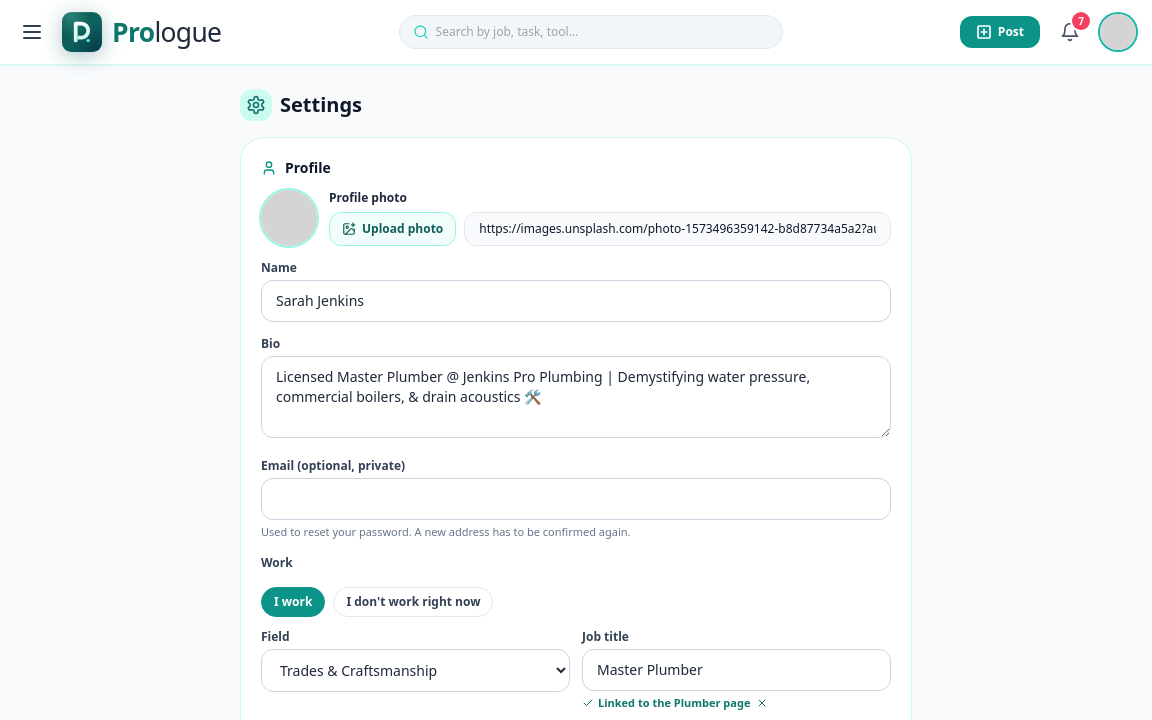
Scenario: picking your profession › links the profile to a catalog profession and sets the field
Earlier steps of the test are not shown.
Replace the text in the dropdown labelled "Job title" with "electr". click: (736, 670)
box: x1=582 y1=648 x2=891 y2=690
(page scrolled)
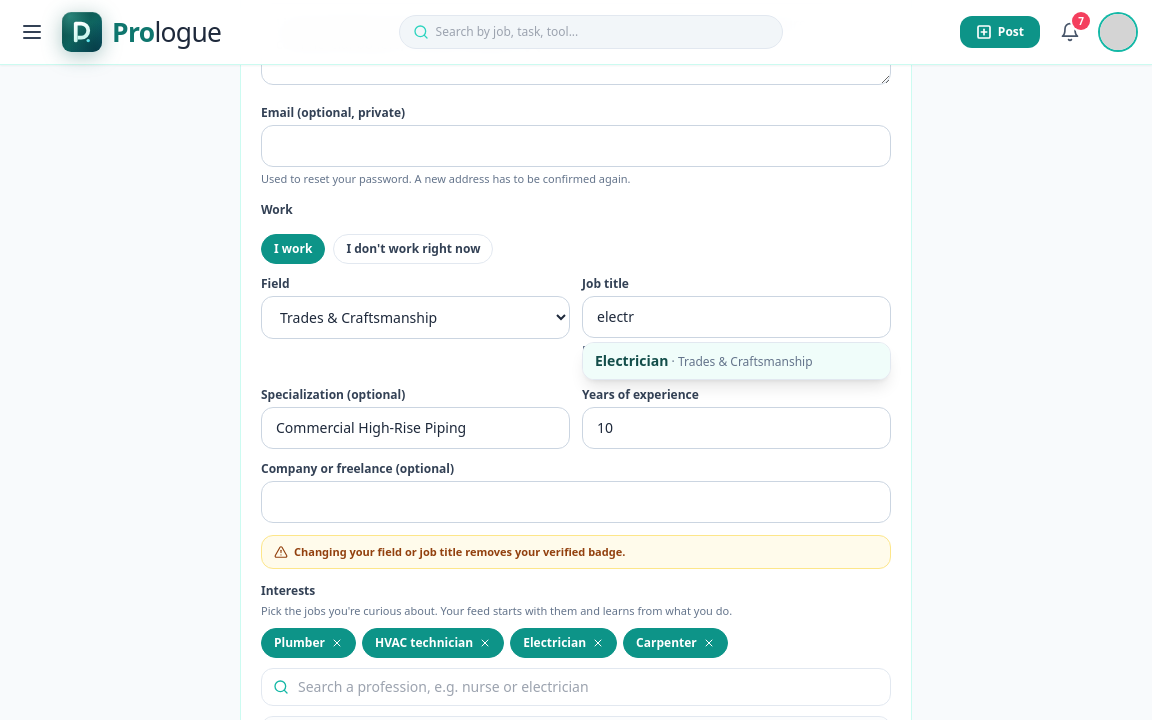
Press the mouse on the option "Electrician · Trades & Craftsmanship" at (736, 360), box x1=583 y1=342 x2=890 y2=378
(page scrolled)
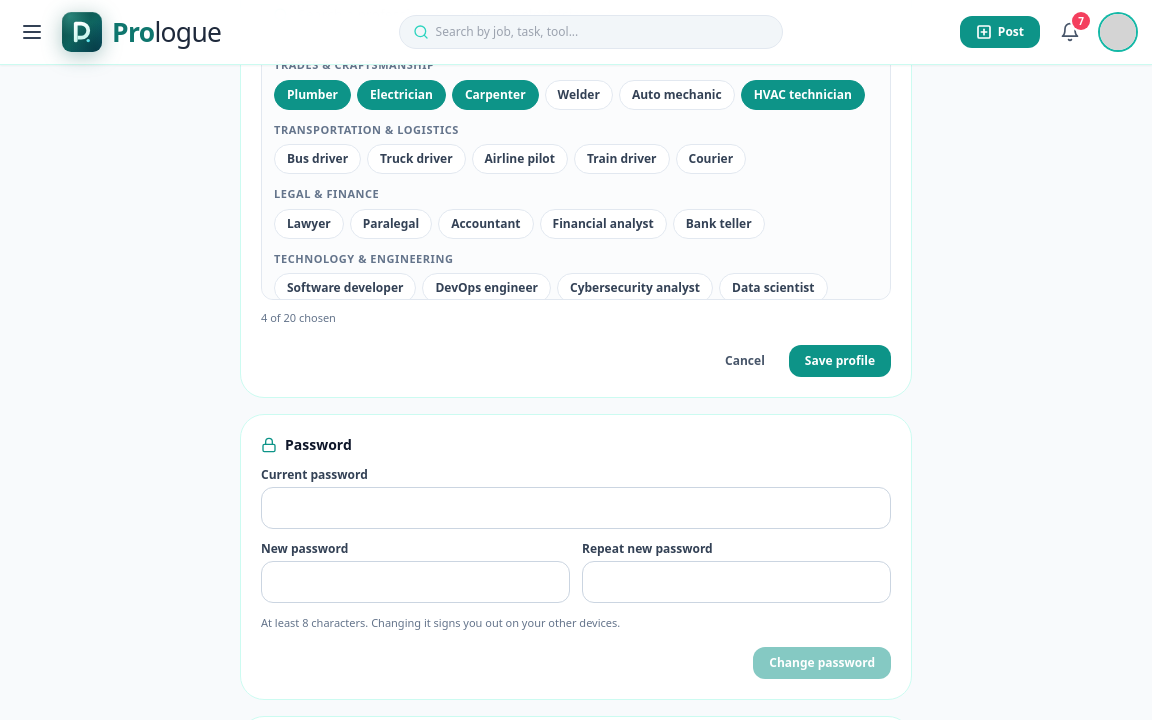
Click the button "Save profile". click: click(840, 361)
box: x1=789 y1=345 x2=891 y2=377
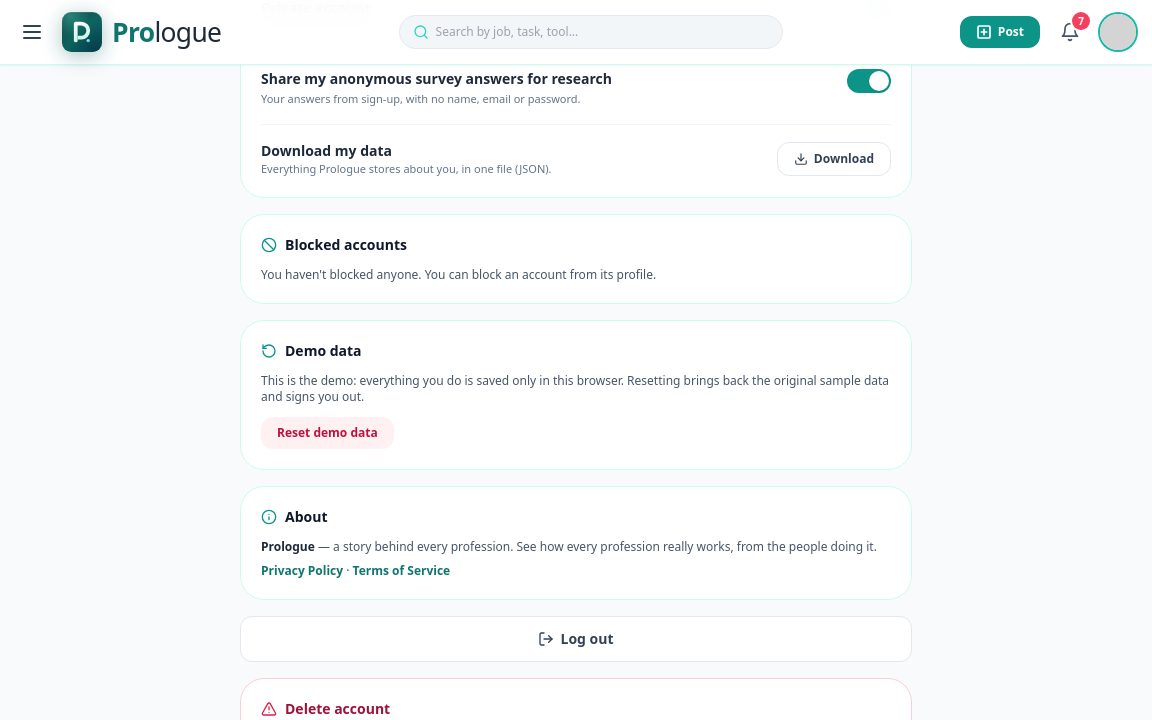
Result: the button "Save profile" is gone
Click the button named "Open menu". click: click(32, 32)
box: x1=12 y1=12 x2=52 y2=52
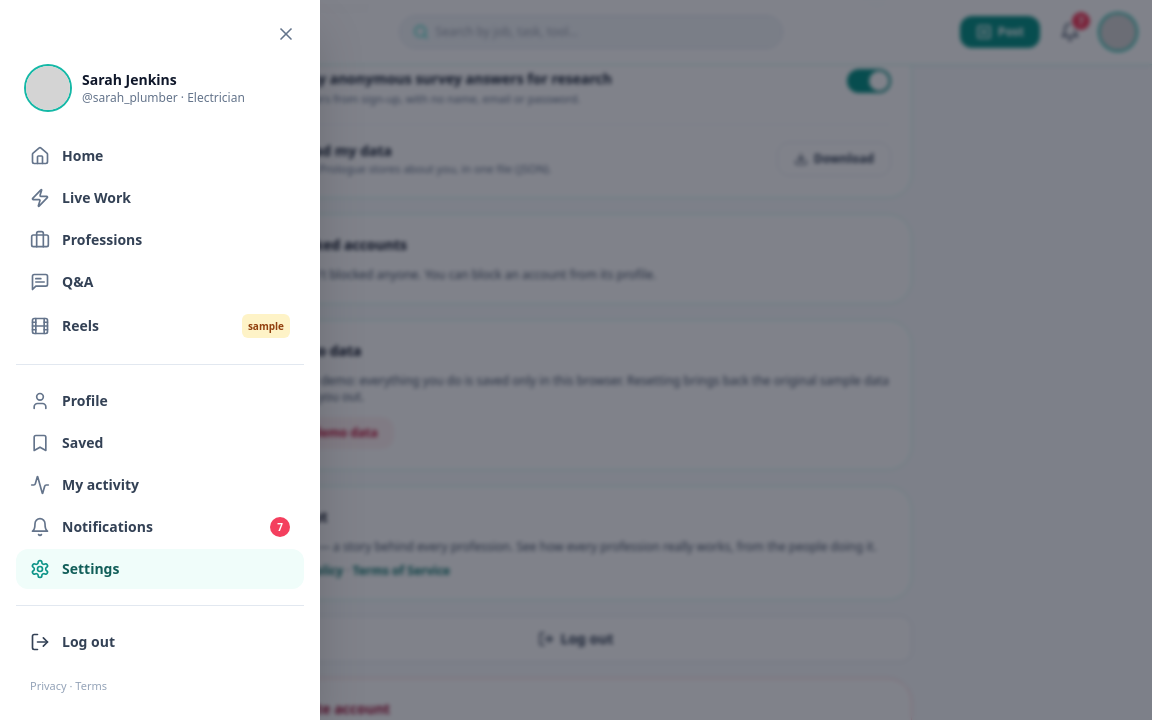
Click the button "Professions". click: click(102, 240)
box: x1=16 y1=220 x2=304 y2=260
(page scrolled)
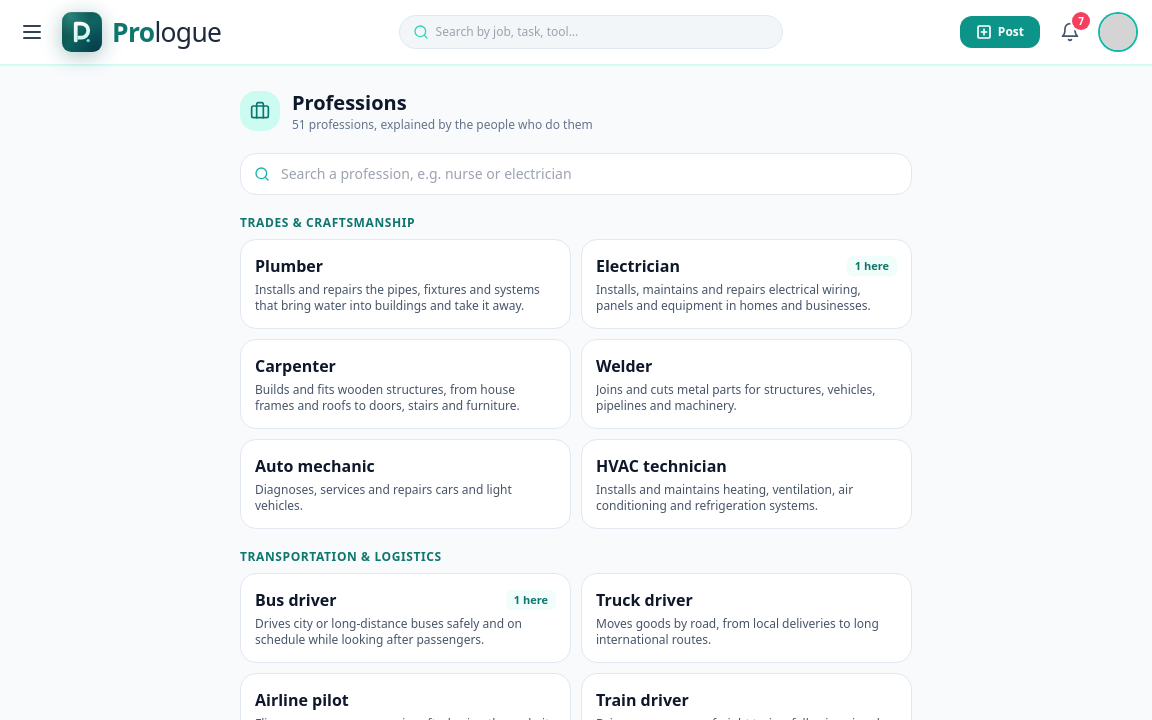
Click the link "Electrician". click: click(746, 284)
box: x1=581 y1=239 x2=912 y2=329
(page scrolled)
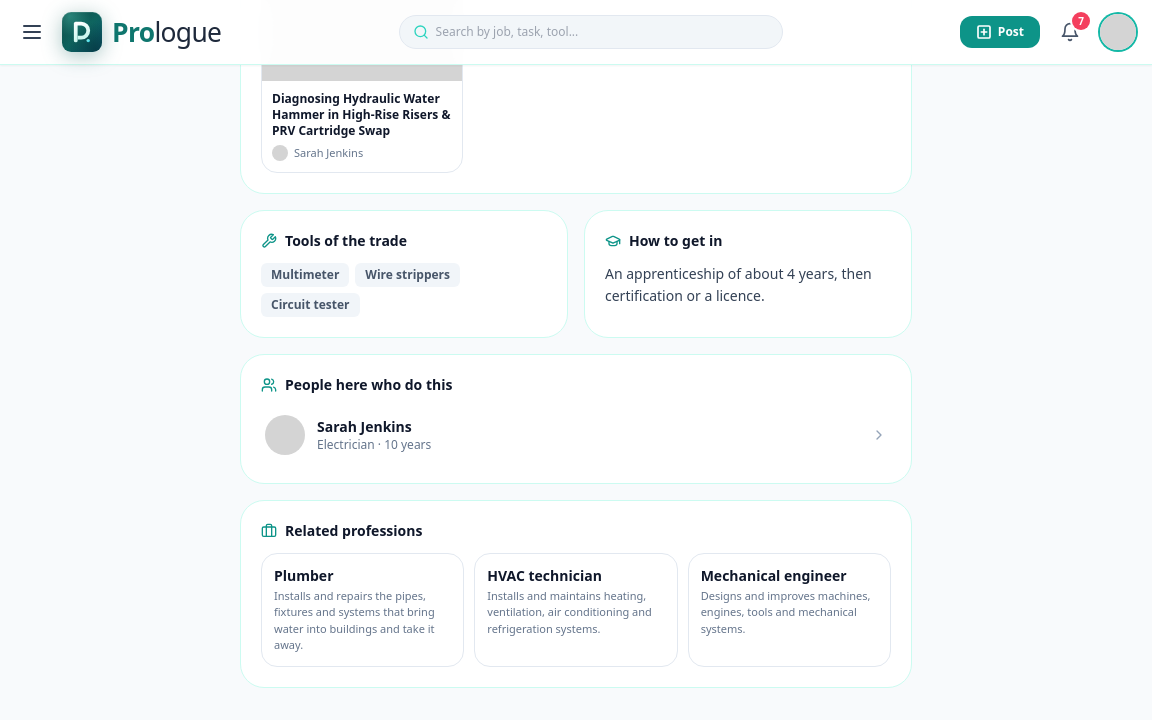
Result: the link "Sarah Jenkins Electrician · 10 years" is shown at x1=261 y1=406 x2=891 y2=462
